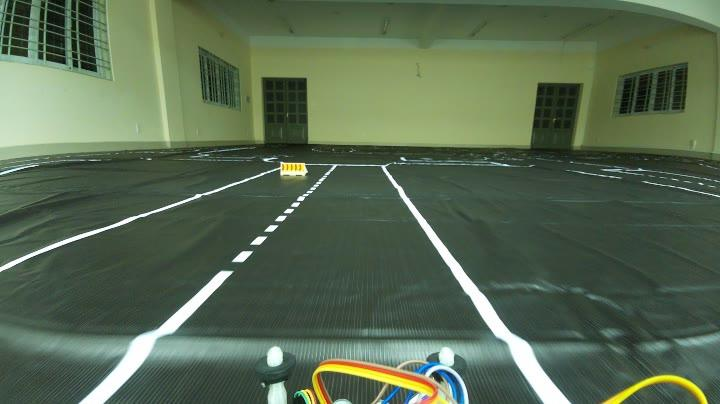roadblock: (278, 158, 309, 182)
